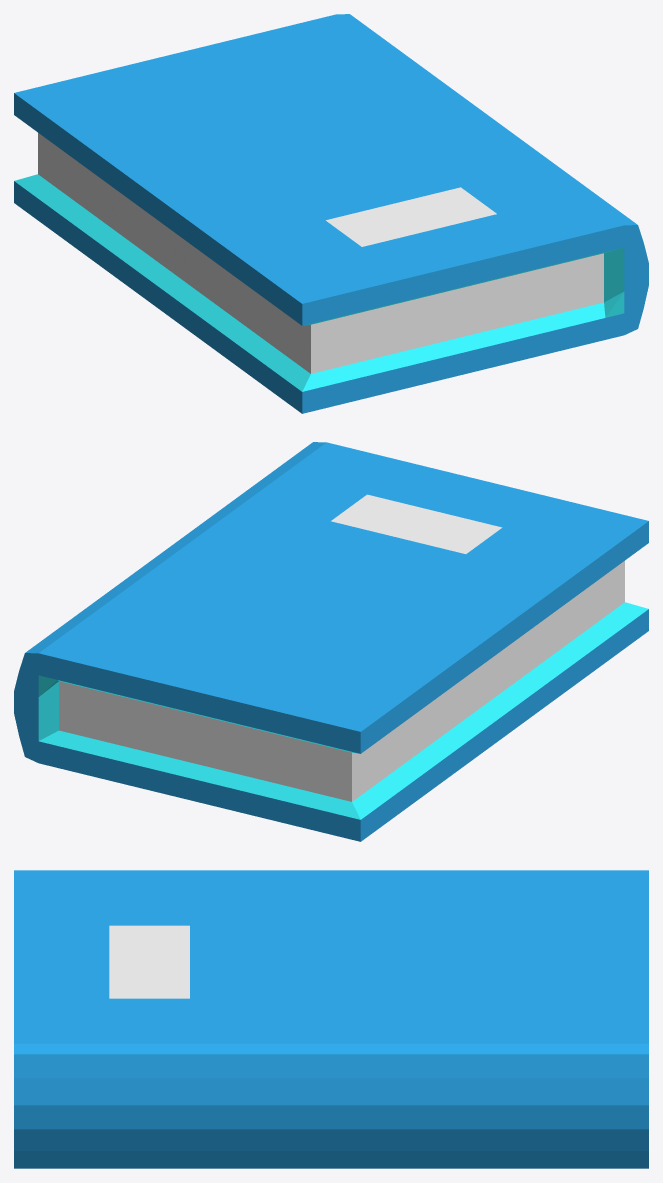
Rendered from Book.fbx.
The picture shows the model from 3 angles, top to bottom: view 1: azimuth 30°, elevation 25°; view 2: azimuth 150°, elevation 25°; view 3: azimuth 270°, elevation 25°; orthographic projection. The views are drawn at different scales.
Parts seen in each view (by area): view 1: Book; view 2: Book; view 3: Book.
Part boxes in pixels (bbox=[...]): Book: bbox=[14, 14, 648, 413]; Book: bbox=[14, 442, 648, 841]; Book: bbox=[14, 870, 648, 1168].
Bounding box in the file's own units: 13.2 × 4 × 19.
1 material, 1 textured.
